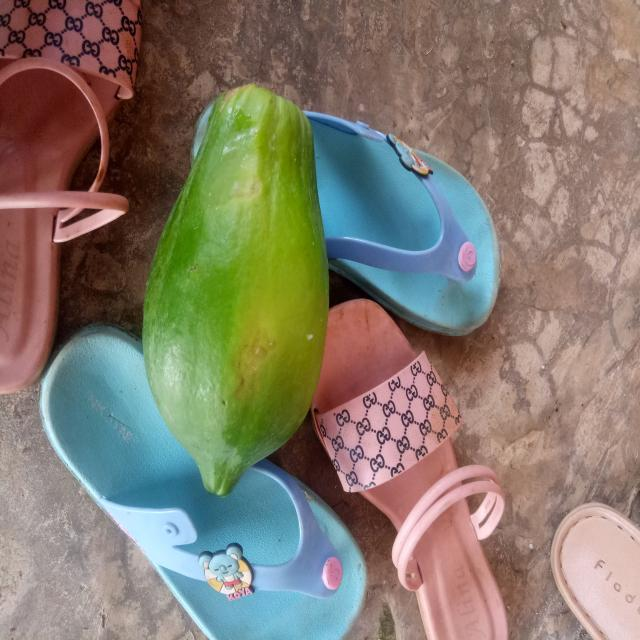Pepaya unrippen: (136, 72, 332, 501)
